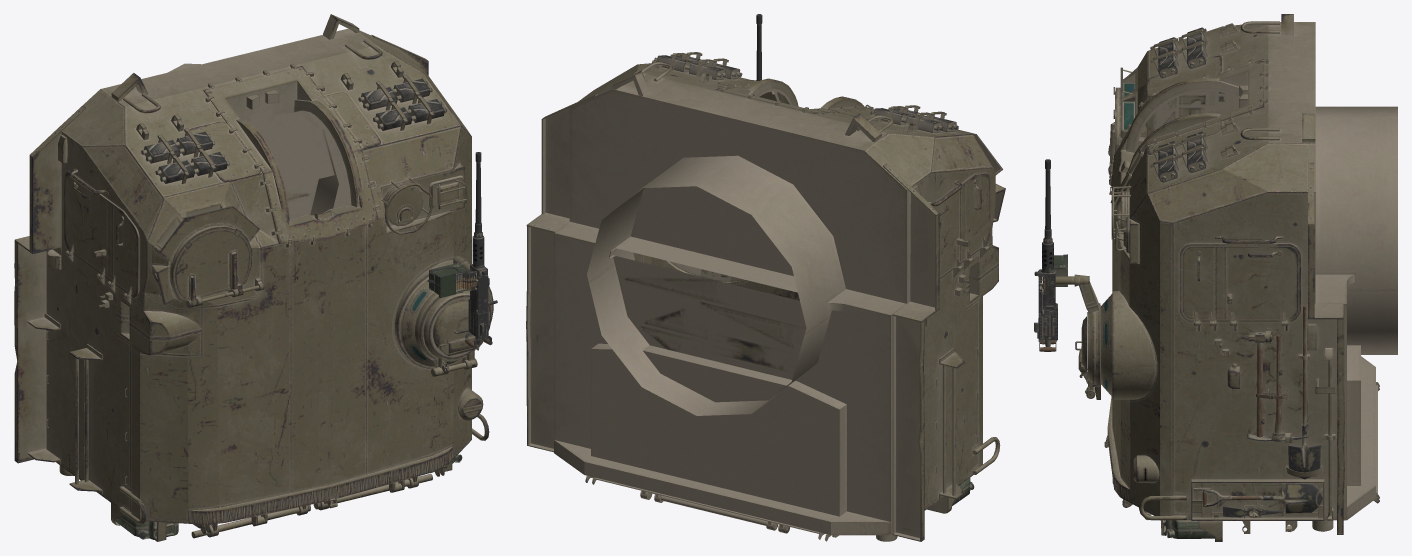
Rendered from Turret_01.glb.
The picture shows the model from 3 angles, left to right: view 1: azimuth 30°, elevation 25°; view 2: azimuth 150°, elevation 25°; view 3: azimuth 270°, elevation 25°; orthographic projection.
Parts seen in each view (by area): view 1: set_0_group_0; view 2: set_0_group_0; view 3: set_0_group_0.
Part boxes in pixels (x1,y1,x2,y2): set_0_group_0: (14, 14, 497, 541); set_0_group_0: (526, 14, 1005, 541); set_0_group_0: (1034, 14, 1397, 541).
Bounding box in the file's own units: 3.57 × 3.55 × 2.9.
Materials: 1 (1 with a texture image).
